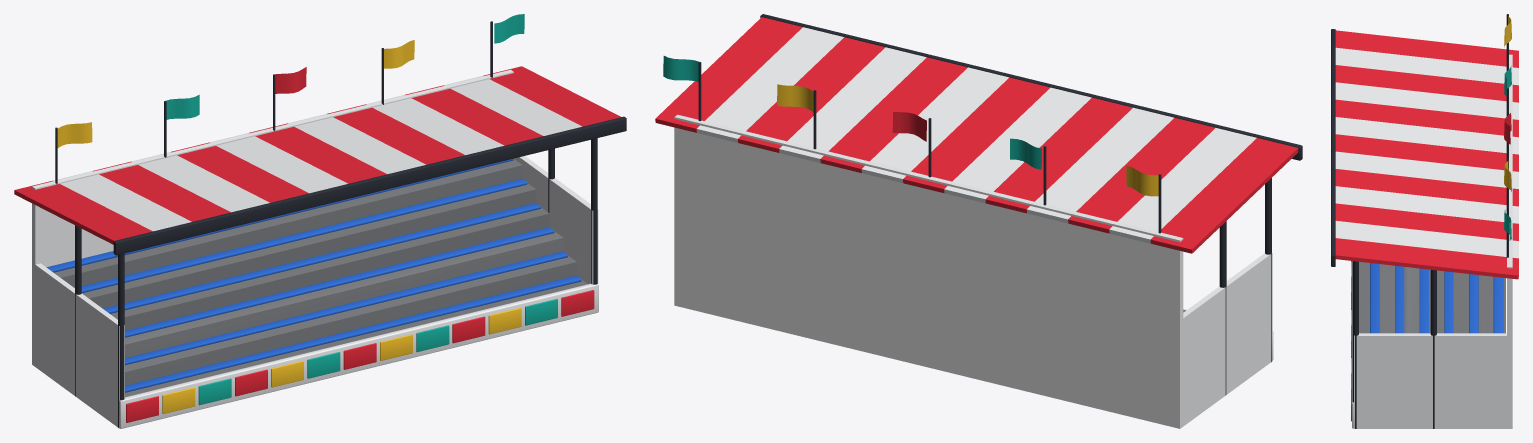
File: grandstand.glb
3 renders of one model, left to right at view 1: azimuth 30°, elevation 25°; view 2: azimuth 150°, elevation 25°; view 3: azimuth 270°, elevation 25°, orthographic. The views are drawn at different scales.
Parts seen in each view (by area): view 1: Grandstand; view 2: Grandstand; view 3: Grandstand.
Part boxes in pixels (x1,y1,x2,y2): Grandstand: (14,14,626,428); Grandstand: (655,14,1302,428); Grandstand: (1331,14,1518,428).
Bounding box in the file's own units: 28.2 × 12.3 × 9.88.
